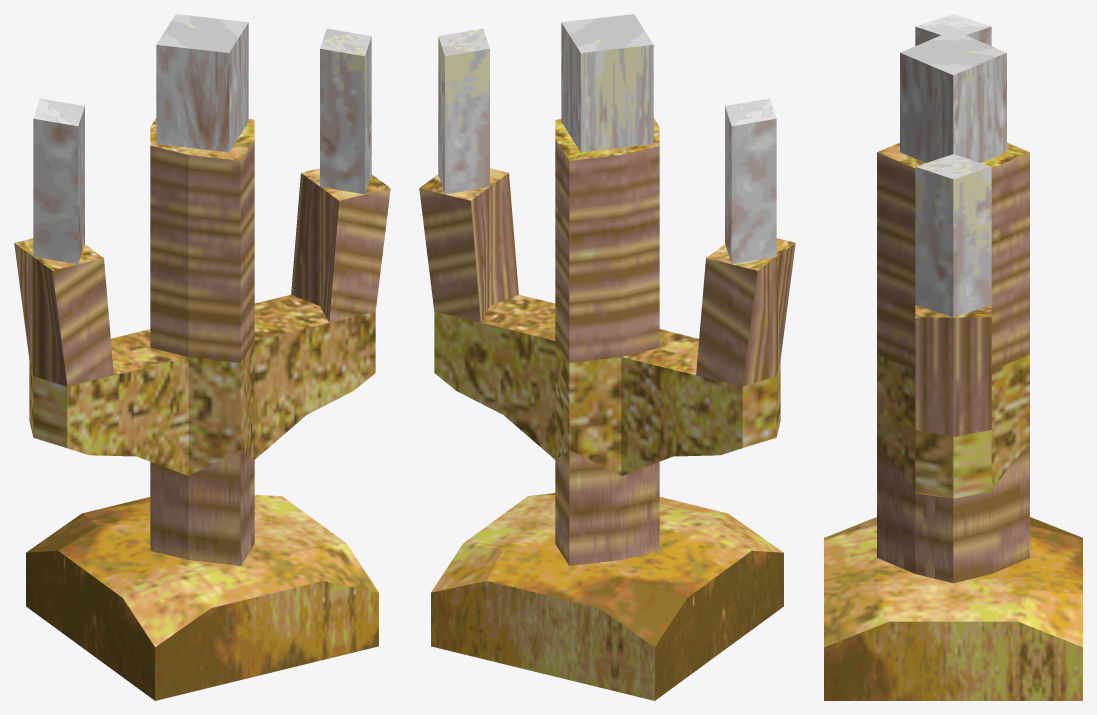
Rendered from candle.fbx.
The picture shows the model from 3 angles, left to right: view 1: azimuth 30°, elevation 25°; view 2: azimuth 150°, elevation 25°; view 3: azimuth 270°, elevation 25°; orthographic projection.
Visible parts, largest first — view 1: candle; view 2: candle; view 3: candle.
Boxes of the visible parts, x1,y1,x2,y2 form: candle: (14, 14, 390, 700); candle: (419, 14, 795, 700); candle: (824, 14, 1082, 700).
Size of the model in its own units: 36.79 by 62.44 by 24.36.
